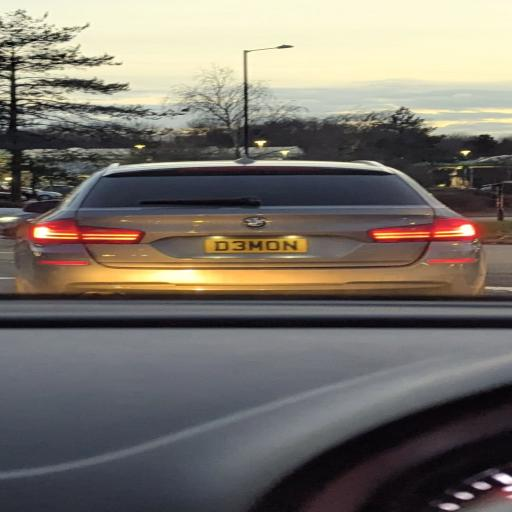numberplates: (204, 238, 308, 253)
